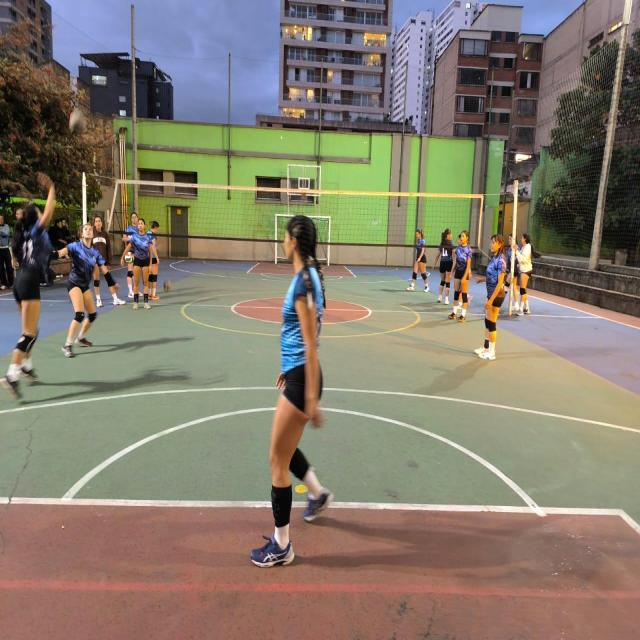volleyball: (69, 109, 85, 134), (124, 252, 134, 263), (163, 280, 171, 292)
